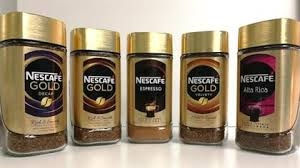nescafe-classic/gold-med: (3, 15, 68, 155), (236, 20, 300, 146), (68, 27, 122, 146), (180, 28, 229, 143), (127, 30, 174, 144)
